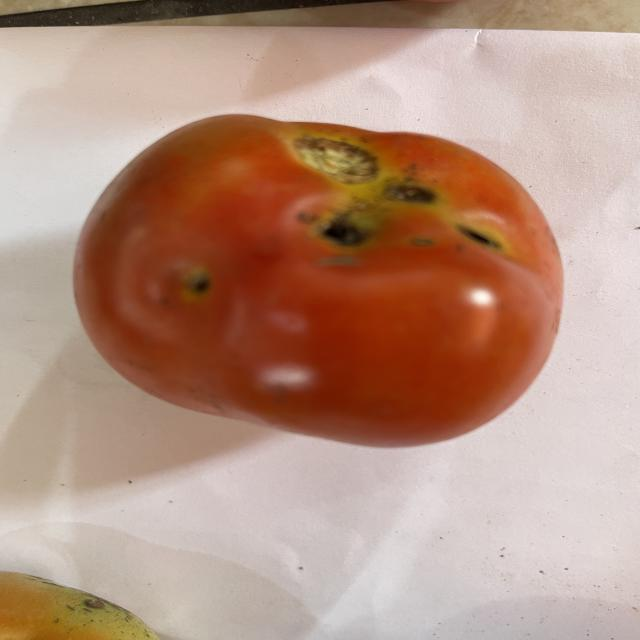fruitworm_bore: (300, 170, 450, 247), (454, 207, 530, 263), (181, 260, 232, 308)
